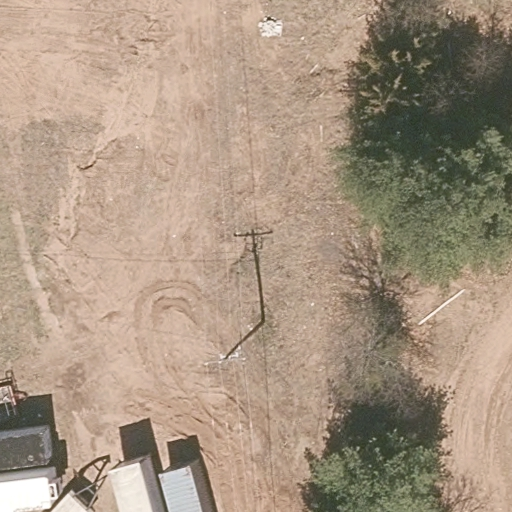DT: (202, 320, 265, 367)
